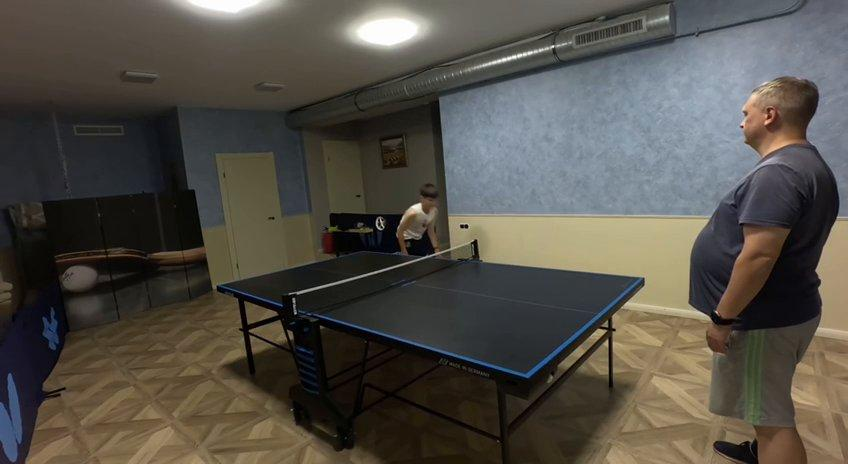Net: (283, 240, 479, 321)
Player1: (397, 183, 439, 255)
Player2: (689, 76, 839, 463)
Table: (220, 254, 643, 376)
